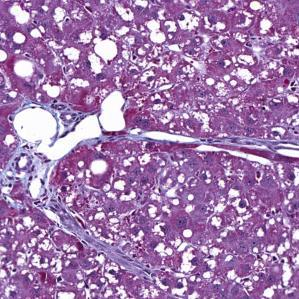fibrosis: (5, 150, 68, 218), (81, 237, 158, 274)
